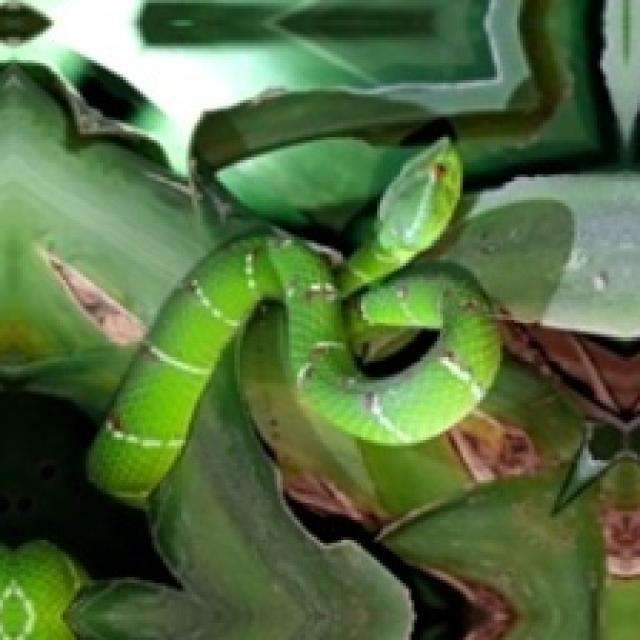north ph temple pitviper: (89, 137, 497, 503)
